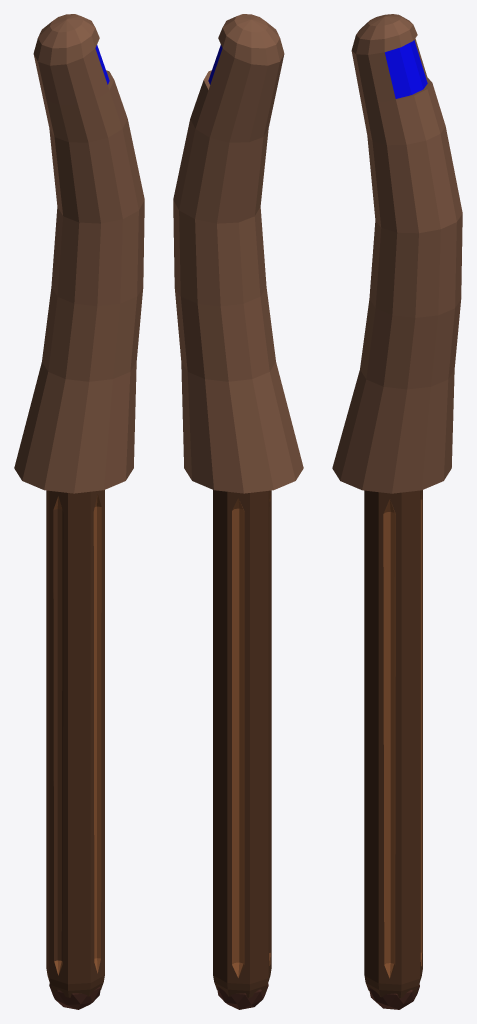
File: Wand 540.glb
3 views of the same model, side by side, from view 1: azimuth 30°, elevation 25°; view 2: azimuth 150°, elevation 25°; view 3: azimuth 330°, elevation 25° (orthographic).
Visible parts, largest first — view 1: GeneratedWand; view 2: GeneratedWand; view 3: GeneratedWand.
Boxes of the visible parts, box(x1,y1,x2,y2) form: GeneratedWand: box(14, 14, 144, 1009); GeneratedWand: box(173, 14, 303, 1009); GeneratedWand: box(332, 14, 462, 1009).
Bounding box in the file's own units: 0.0644 × 0.5219 × 0.0572.
